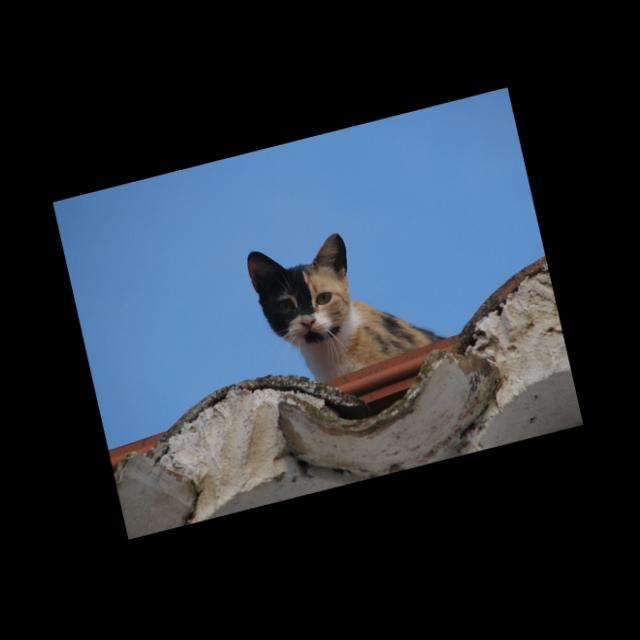animals: (249, 232, 354, 339)
